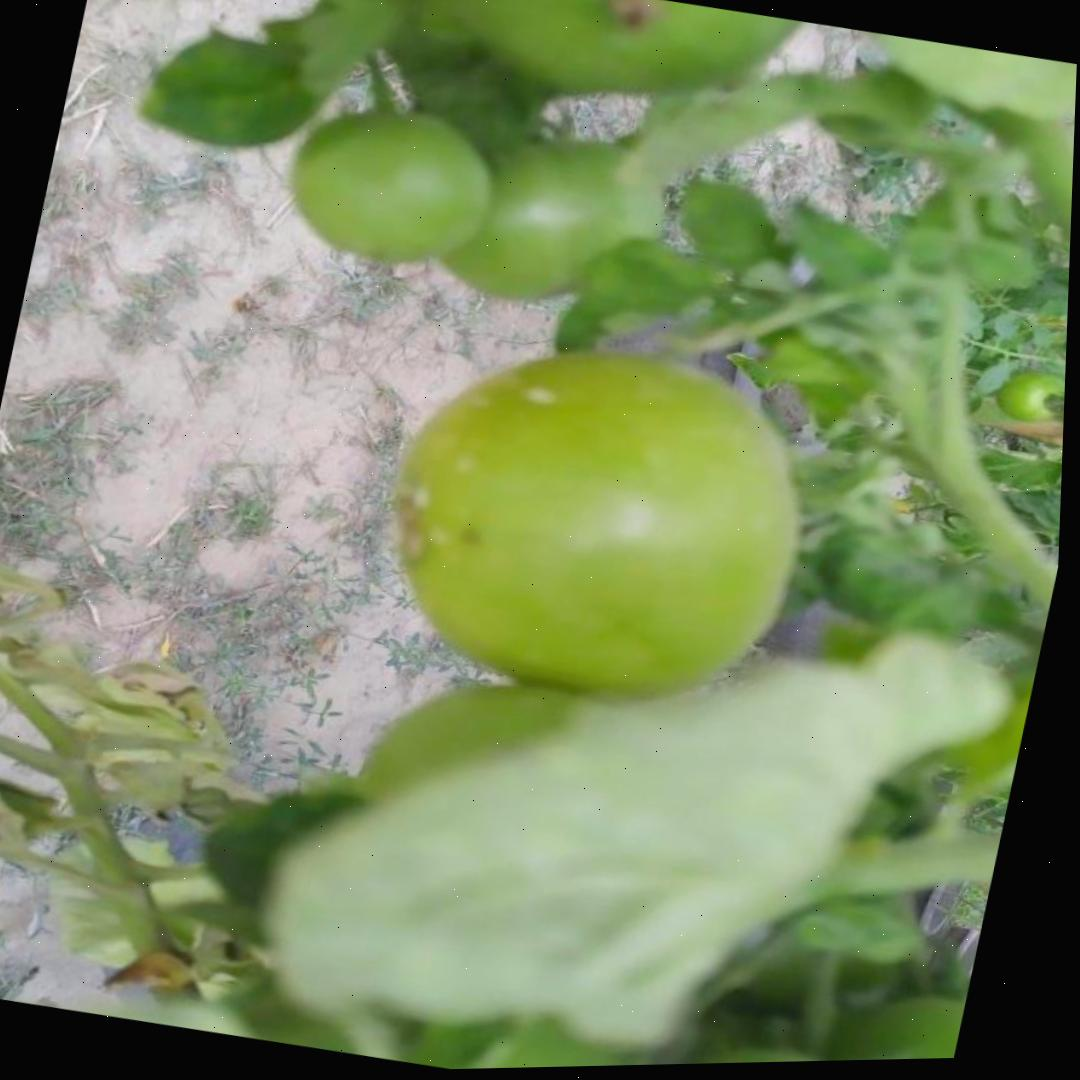mentah: (355, 316, 838, 726), (278, 93, 510, 281)
